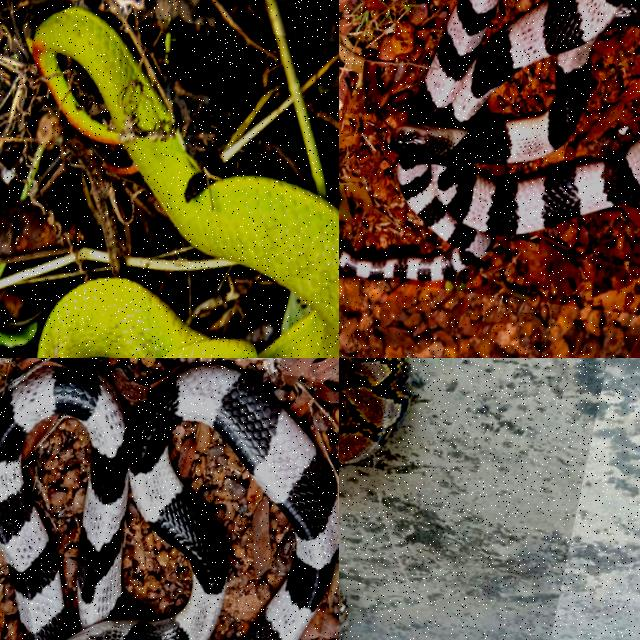Bungarus candidus: (0, 365, 338, 639), (339, 0, 639, 280)
Malayopython reticulatus: (339, 358, 409, 460)
Trimeresurus: (37, 136, 338, 357)
snake: (0, 365, 338, 639), (339, 0, 639, 280), (37, 136, 338, 357), (339, 358, 409, 460)
